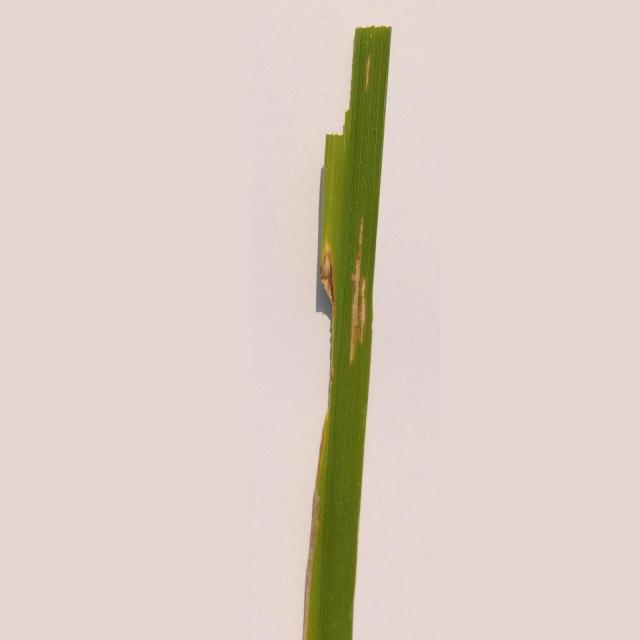Bacterial leaf blight: (298, 450, 325, 640), (347, 222, 375, 382), (313, 244, 342, 320), (356, 53, 376, 89)
